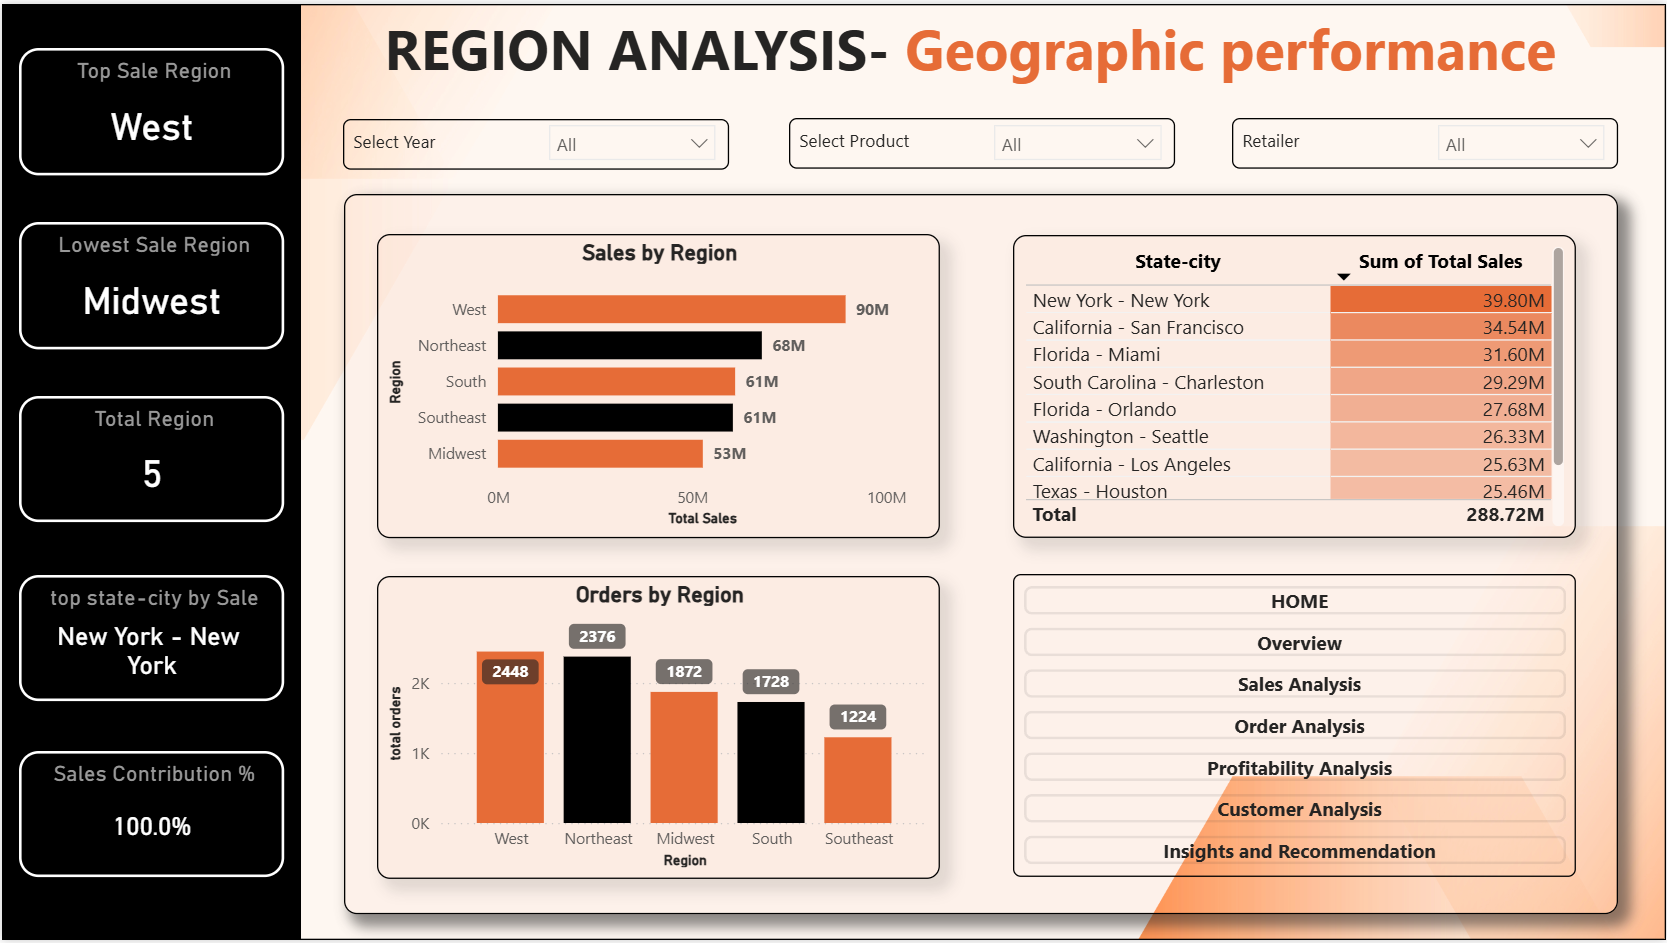

Layout of this report page (visuals, bound fields, positions):
{"tool":"powerbi","page":{"name":" Region Analysis","canvas":[1280,720],"ordinal":5},"visuals":[{"type":"textbox","box":[0,0,1280,720],"z":0},{"type":"textbox","box":[289.1,0,990.9,78.8],"z":1000},{"type":"textbox","box":[263,146,980.2,554.2],"z":2000},{"type":"textbox","box":[0,0,230,719.8],"z":3000},{"type":"card","title":"Top Sale Region","fields":{"Values":["Min(Data Sales Adidas.Region)"]},"box":[12.8,34.2,204.2,98.4],"z":4000},{"type":"card","title":"Lowest Sale Region","fields":{"Values":["Min(Data Sales Adidas.Region)"]},"box":[12.8,167.9,204.2,98.4],"z":5000},{"type":"columnChart","title":"Orders by Region","fields":{"Category":["Data Sales Adidas.Region"],"Y":["Data Sales Adidas.total orders"]},"box":[288.3,440,433.3,233],"z":6000},{"type":"barChart","title":"Sales by Region","fields":{"Category":["Data Sales Adidas.Region"],"Y":["Sum(Data Sales Adidas.Profit)"]},"box":[288.8,177.2,433.1,233.6],"z":7000},{"type":"textbox","box":[262.5,88.3,296.7,39.2],"z":8000},{"type":"textbox","box":[605.1,87.9,296.6,39.4],"z":9000},{"type":"textbox","box":[946.4,87.9,296.6,39.4],"z":10000},{"type":"slicer","fields":{"Values":["Data Sales Adidas.Order Date.Variation.Date Hierarchy.Year"]},"box":[410.8,83.1,148.5,48.5],"z":11000},{"type":"slicer","fields":{"Values":["Data Sales Adidas.Product"]},"box":[753.1,83.1,149.2,43.8],"z":12000},{"type":"slicer","fields":{"Values":["Data Sales Adidas.Retailer"]},"box":[1094.6,83.1,148.5,46.2],"z":13000},{"type":"card","title":"Total Region","fields":{"Values":["Count(Data Sales Adidas.Region)"]},"box":[12.8,301.6,204.2,97.3],"z":14000},{"type":"card","title":"Sales Contribution %","fields":{"Values":["Data Sales Adidas.sales contribution"]},"box":[12.8,574.2,204.2,97.3],"z":15000},{"type":"tableEx","fields":{"Values":["Data Sales Adidas.State-city","Sum(Data Sales Adidas.Total Sales)"]},"box":[777.4,177.5,433.1,233.1],"z":16000},{"type":"card","title":"top state-city by Sale","fields":{"Values":["Min(Data Sales Adidas.State-city)"]},"box":[12.8,439.5,204.2,97.3],"z":17000},{"type":"textbox","box":[777.4,438.4,433.1,233],"z":18000},{"type":"pageNavigator","box":[786,448.1,417,216],"z":19000}]}

Visuals, with their boxes in screenshot pixels (x1, y1, x2, y2), scaled from the page's 1280x720 canvas onto the 1668x943 screenshot:
textbox: <region>0, 0, 1667, 942</region>
textbox: <region>377, 0, 1667, 103</region>
textbox: <region>343, 191, 1620, 917</region>
textbox: <region>0, 0, 300, 942</region>
"Top Sale Region" card: <region>17, 45, 283, 174</region>
"Lowest Sale Region" card: <region>17, 220, 283, 349</region>
"Orders by Region" columnChart: <region>376, 576, 940, 881</region>
"Sales by Region" barChart: <region>376, 232, 941, 538</region>
textbox: <region>342, 116, 729, 167</region>
textbox: <region>789, 115, 1175, 167</region>
textbox: <region>1233, 115, 1620, 167</region>
slicer - Data Sales Adidas.Order Date.Variation.Date Hierarchy.Year: <region>535, 109, 729, 172</region>
slicer - Data Sales Adidas.Product: <region>981, 109, 1176, 166</region>
slicer - Data Sales Adidas.Retailer: <region>1426, 109, 1620, 169</region>
"Total Region" card: <region>17, 395, 283, 522</region>
"Sales Contribution %" card: <region>17, 752, 283, 879</region>
tableEx - Data Sales Adidas.State-city x Sum(Data Sales Adidas.Total Sales): <region>1013, 232, 1577, 538</region>
"top state-city by Sale" card: <region>17, 576, 283, 703</region>
textbox: <region>1013, 574, 1577, 879</region>
pageNavigator: <region>1024, 587, 1568, 870</region>
